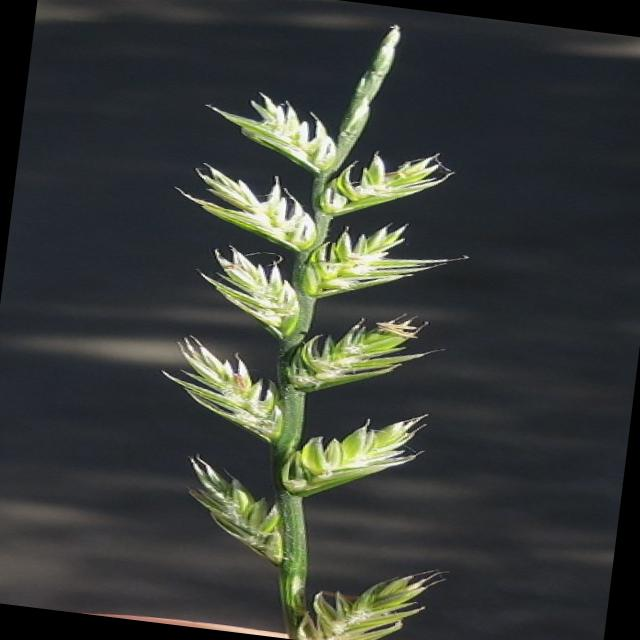Lolium: (119, 0, 504, 640)
